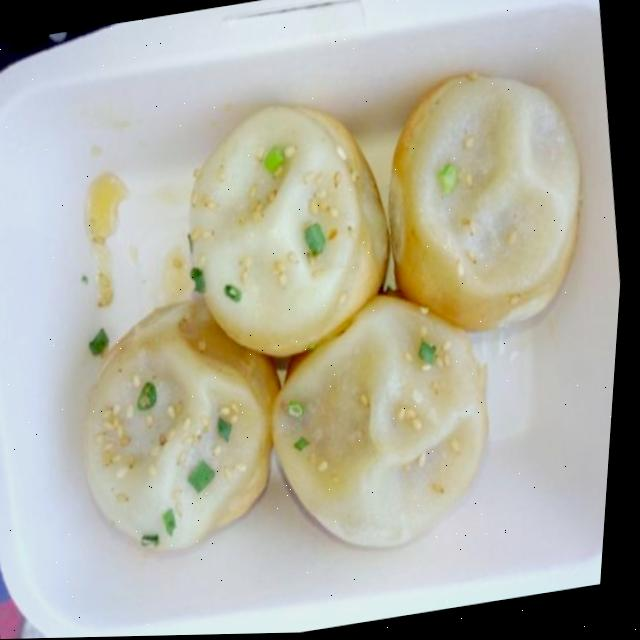带馅早点: (0, 11, 639, 640)
